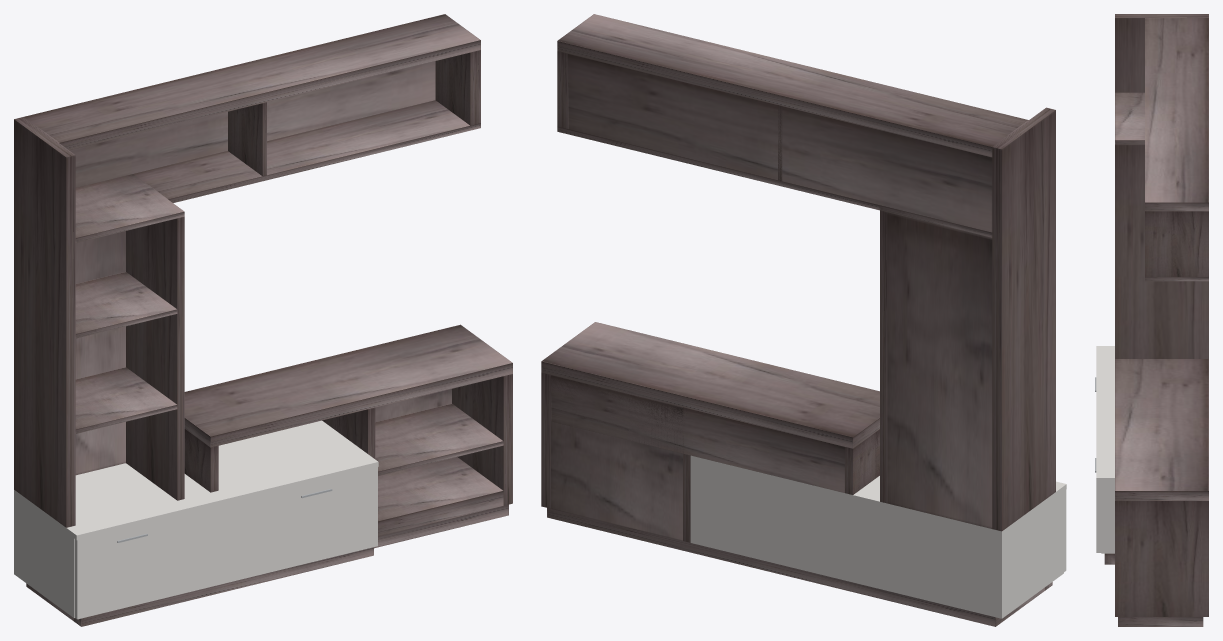
File: glen_ar.glb
The picture shows the model from 3 angles, left to right: view 1: azimuth 30°, elevation 25°; view 2: azimuth 150°, elevation 25°; view 3: azimuth 270°, elevation 25°; orthographic projection. The views are drawn at different scales.
Parts seen in each view (by area): view 1: korpus, klapna; view 2: korpus; view 3: korpus, klapna.
Boxes of the visible parts, box(x1,y1,x2,y2) form: korpus: box(14, 14, 512, 626); klapna: box(74, 462, 377, 619); korpus: box(541, 14, 1066, 626); korpus: box(1096, 14, 1208, 626); klapna: box(1095, 377, 1101, 552).
Bounding box in the file's own units: 1.71 × 1.71 × 0.42.
4 materials, 2 textured.
